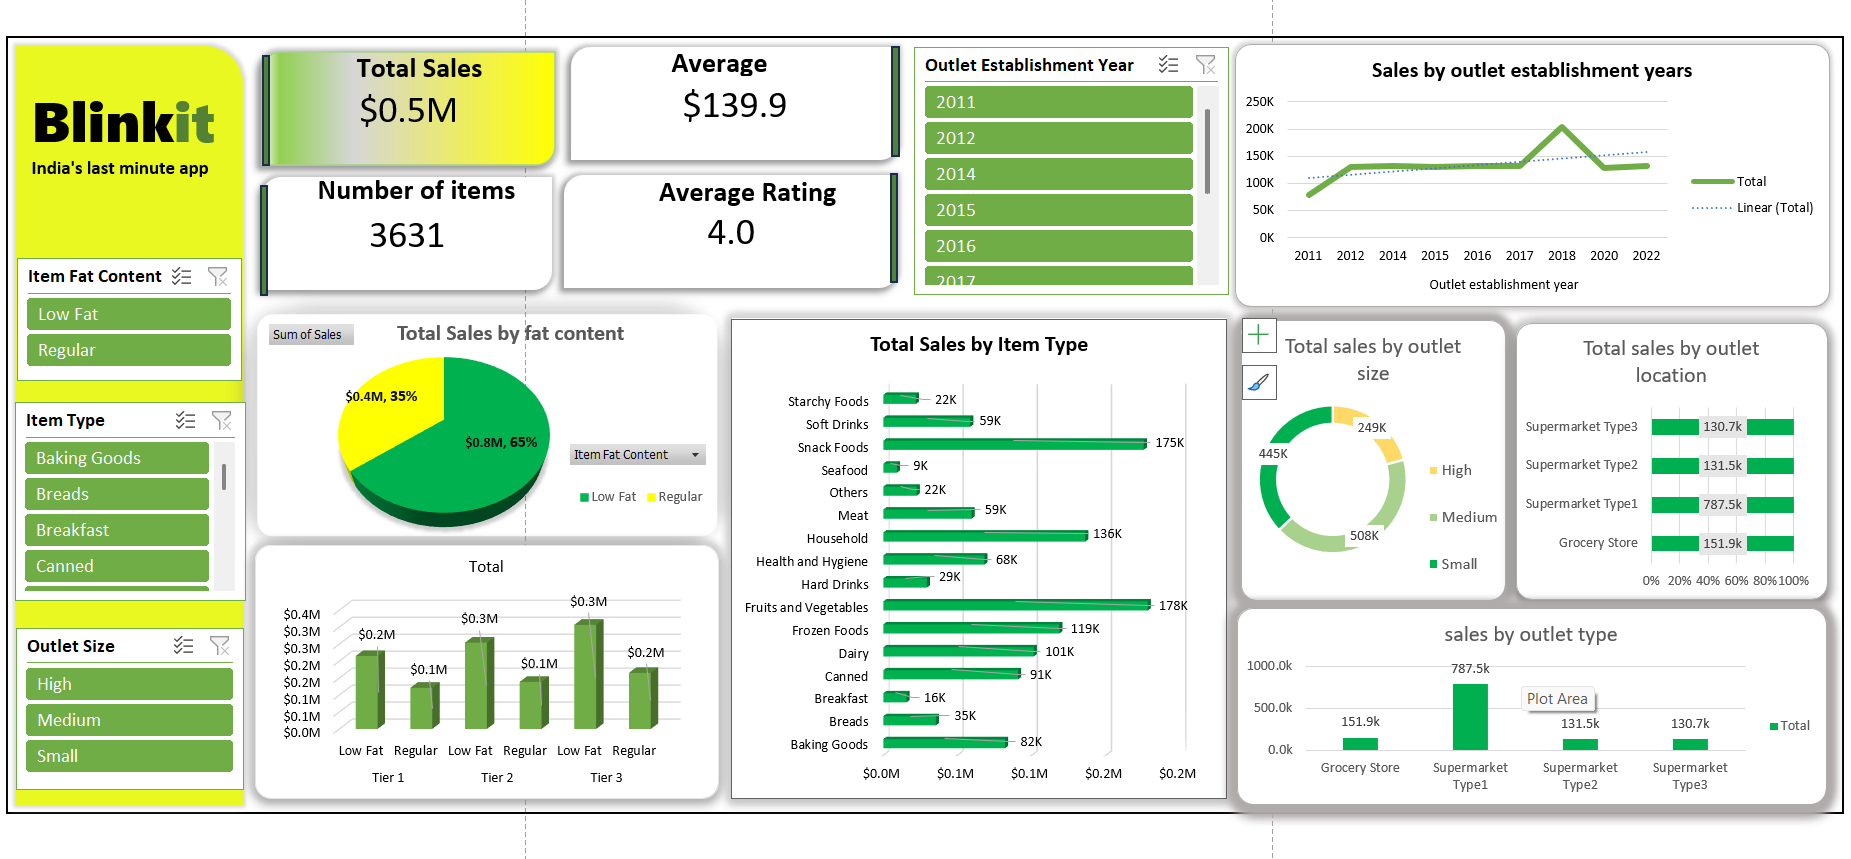

This screenshot's page, from the dashboard's own definition file:
{"tool":"powerbi","page":{"name":"Page 1","canvas":[1920,1920],"ordinal":0},"visuals":[{"type":"shape","box":[0,0,306.7,1093.3],"z":0},{"type":"textbox","box":[16.7,60,266.7,98.3],"z":1000},{"type":"textbox","box":[10,158.3,278.3,48.3],"z":2000},{"type":"cardVisual","title":"Average Rating","fields":{"Data":["public blinkit_sales.Average_Rating"]},"box":[325,15,221.7,131.7],"z":3000},{"type":"cardVisual","title":"Average sales","fields":{"Data":["public blinkit_sales.Average_sales"]},"box":[591.7,15,228.3,123.3],"z":4000},{"type":"cardVisual","title":"Total Sales","fields":{"Data":["public blinkit_sales.Total_Sales"]},"box":[333.3,183.3,213.3,128.3],"z":5000},{"type":"cardVisual","title":"Number of items","fields":{"Data":["public blinkit_sales.Total number of items"]},"box":[591.7,183.3,228.3,128.3],"z":6000},{"type":"donutChart","title":"Total Sales by Fat Content","fields":{"Category":["public blinkit_sales.itemfatcontent"],"Y":["Sum(public blinkit_sales.totalsales)"]},"box":[321.7,748.3,465,346.7],"z":7000},{"type":"slicer","fields":{"Values":["Metrics.Metrics"]},"box":[325,330,858.3,96.7],"z":8000},{"type":"cardVisual","fields":{"Data":["public blinkit_sales.Average_sales"]},"box":[325,861.7,138.3,98.3],"z":9000},{"type":"barChart","title":"Total_Sales by type of Items","fields":{"Y":["public blinkit_sales.Average_sales"],"Category":["public blinkit_sales.itemtype"]},"box":[806.7,426.7,378.3,668.3],"z":10000},{"type":"donutChart","title":"Sales by Outlet Size","fields":{"Y":["public blinkit_sales.Total_Sales"],"Category":["public blinkit_sales.outletsize"]},"box":[1208.3,318.3,310,445],"z":11000},{"type":"clusteredBarChart","title":"Total Sales by Outlet location segmented by Fat","fields":{"Y":["public blinkit_sales.Average_sales"],"Category":["public blinkit_sales.outletlocationtype"],"Series":["public blinkit_sales.itemfatcontent"]},"box":[306.7,426.7,480,310],"z":12000},{"type":"lineChart","fields":{"Category":["public blinkit_sales.outletestablishmentyear"],"Y":["public blinkit_sales.Total_Sales"]},"box":[846.7,11.7,1051.7,283.3],"z":13000},{"type":"funnel","fields":{"Category":["public blinkit_sales.outletsize"],"Y":["public blinkit_sales.Average_Rating"]},"box":[1531.7,316.7,366.7,445],"z":14000},{"type":"pivotTable","title":"Outlet Type Table","fields":{"Rows":["public blinkit_sales.outlettype"],"Values":["public blinkit_sales.Total_Sales","public blinkit_sales.Total number of items","public blinkit_sales.Average_sales","public blinkit_sales.Average_Rating"]},"box":[1208.3,788.3,690,306.7],"z":15000},{"type":"slicer","fields":{"Values":["public blinkit_sales.outletlocationtype"]},"box":[10,503.3,286.7,73.3],"z":16000},{"type":"slicer","fields":{"Values":["public blinkit_sales.outletsize"]},"box":[10,616.7,286.7,73.3],"z":17000},{"type":"slicer","fields":{"Values":["public blinkit_sales.itemtype"]},"box":[10,736.7,286.7,73.3],"z":18000},{"type":"textbox","box":[40,391.7,195,68.3],"z":19000},{"type":"slicer","fields":{"Values":["public blinkit_sales.outletestablishmentyear"]},"box":[6.7,848.3,286.7,73.3],"z":20000}]}

Visuals, with their boxes on the page's 1920x1920 design canvas (x1, y1, x2, y2). These are canvas units, not pixel positions in the 1851x859 screenshot, which may show the page scaled, cropped or inside an application window:
shape: (0, 0, 307, 1093)
textbox: (17, 60, 283, 158)
textbox: (10, 158, 288, 207)
"Average Rating" cardVisual: (325, 15, 547, 147)
"Average sales" cardVisual: (592, 15, 820, 138)
"Total Sales" cardVisual: (333, 183, 547, 312)
"Number of items" cardVisual: (592, 183, 820, 312)
"Total Sales by Fat Content" donutChart: (322, 748, 787, 1095)
slicer - Metrics.Metrics: (325, 330, 1183, 427)
cardVisual - public blinkit_sales.Average_sales: (325, 862, 463, 960)
"Total_Sales by type of Items" barChart: (807, 427, 1185, 1095)
"Sales by Outlet Size" donutChart: (1208, 318, 1518, 763)
"Total Sales by Outlet location segmented by Fat" clusteredBarChart: (307, 427, 787, 737)
lineChart - public blinkit_sales.outletestablishmentyear x public blinkit_sales.Total_Sales: (847, 12, 1898, 295)
funnel - public blinkit_sales.outletsize x public blinkit_sales.Average_Rating: (1532, 317, 1898, 762)
"Outlet Type Table" pivotTable: (1208, 788, 1898, 1095)
slicer - public blinkit_sales.outletlocationtype: (10, 503, 297, 577)
slicer - public blinkit_sales.outletsize: (10, 617, 297, 690)
slicer - public blinkit_sales.itemtype: (10, 737, 297, 810)
textbox: (40, 392, 235, 460)
slicer - public blinkit_sales.outletestablishmentyear: (7, 848, 293, 922)
